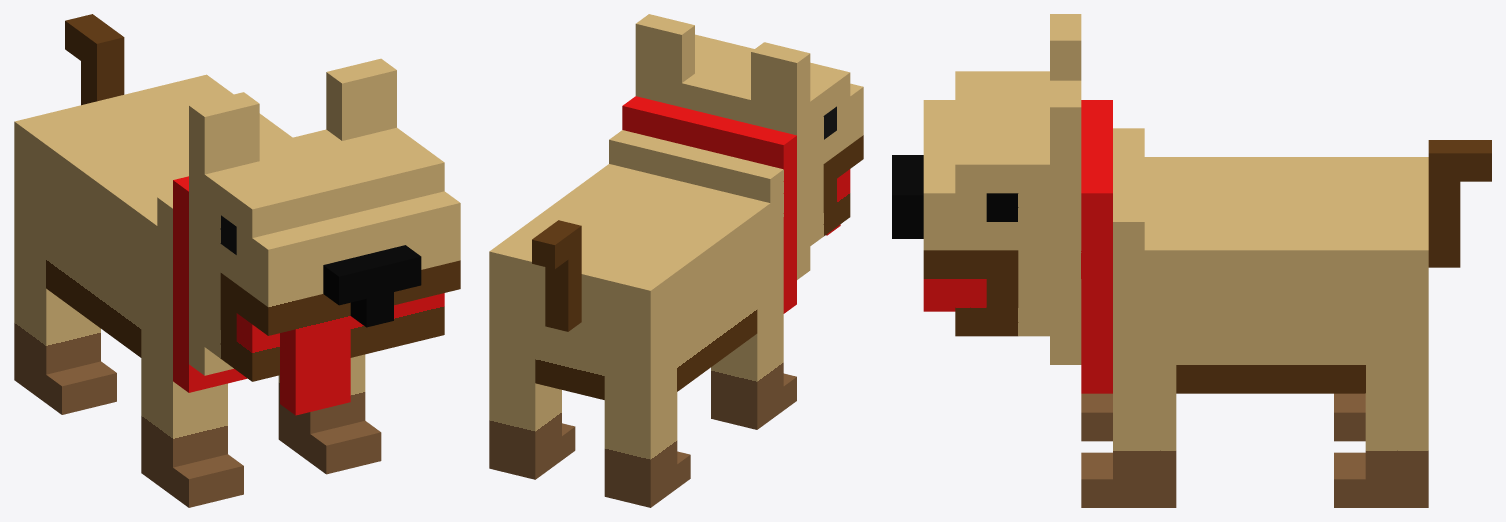
File: dog_004.dae
3 renders of one model, left to right at view 1: azimuth 30°, elevation 25°; view 2: azimuth 150°, elevation 25°; view 3: azimuth 270°, elevation 25°, orthographic. The views are drawn at different scales.
Visible parts, largest first — view 1: Box_15; view 2: Box_15; view 3: Box_15.
Part boxes in pixels (left/top/right/bottom): Box_15: left=14, top=14, right=460, bottom=507; Box_15: left=489, top=14, right=863, bottom=507; Box_15: left=892, top=14, right=1491, bottom=507.
Bounding box in the file's own units: 7 × 14 × 19.
1 material, 1 textured.
